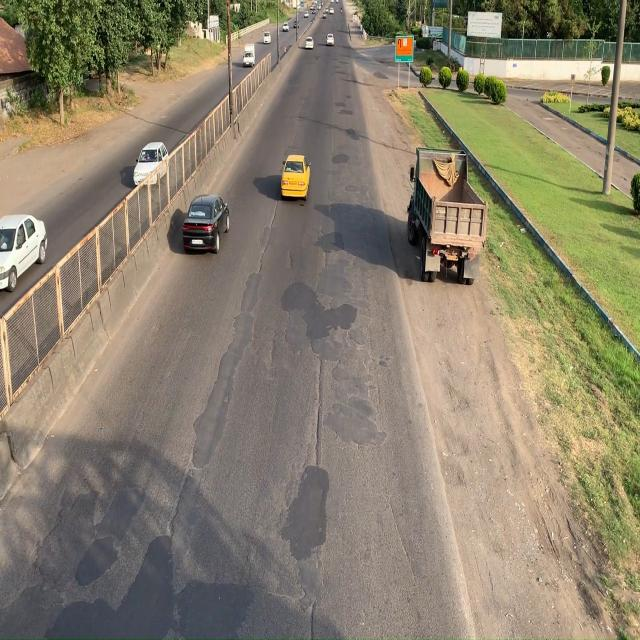Truck: (404, 142, 488, 280)
cars: (0, 215, 48, 290), (182, 195, 230, 252), (133, 139, 168, 189), (280, 155, 310, 200)
